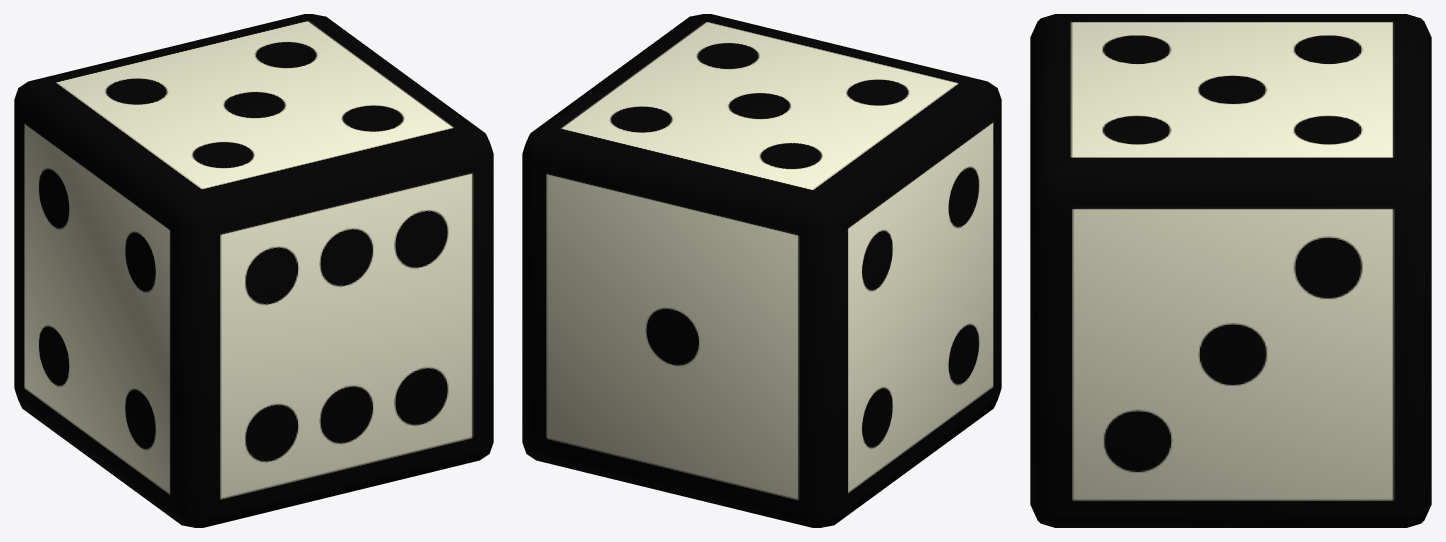
Rendered from Dice.fbx.
The picture shows the model from 3 angles, left to right: view 1: azimuth 30°, elevation 25°; view 2: azimuth 150°, elevation 25°; view 3: azimuth 270°, elevation 25°; orthographic projection. The views are drawn at different scales.
Visible parts, largest first — view 1: Dice; view 2: Dice; view 3: Dice.
Boxes of the visible parts, x1,y1,x2,y2 form: Dice: (14,14,493,527); Dice: (522,14,1001,527); Dice: (1030,14,1431,527).
Bounding box in the file's own units: 80 × 80 × 80.
Materials: 1 (1 with a texture image).
